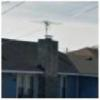chimneys: (37, 34, 60, 74)
